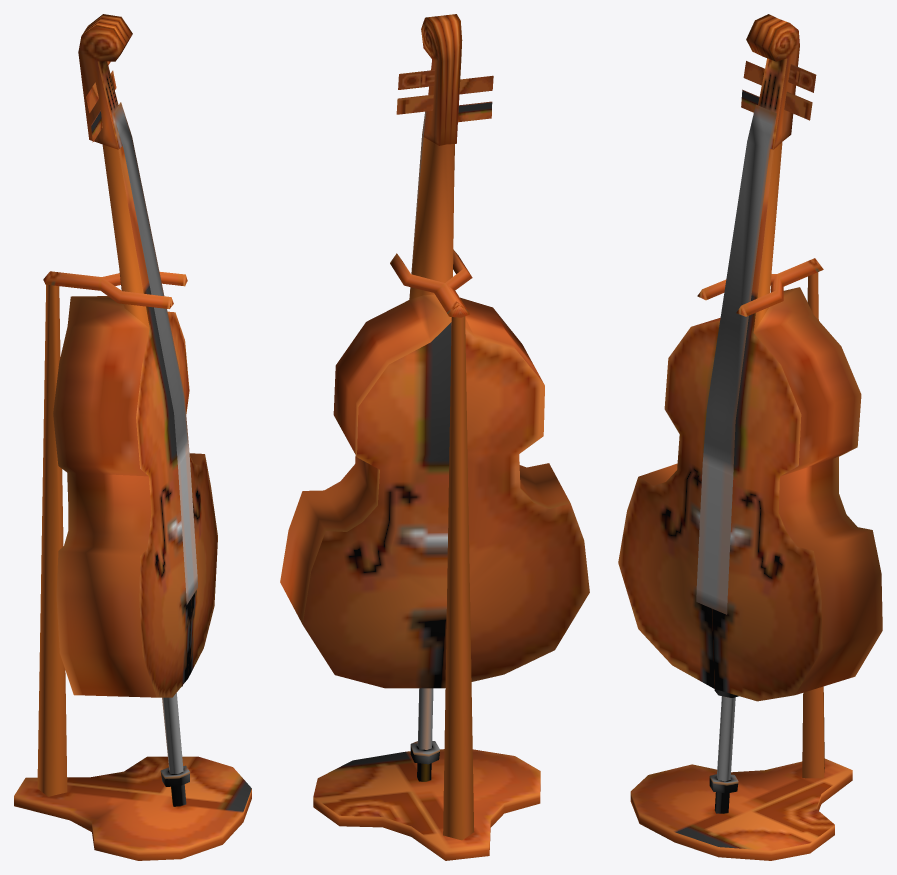
The model's file is int_vio_bass.dae.
3 renders of one model, left to right at view 1: azimuth 30°, elevation 25°; view 2: azimuth 150°, elevation 25°; view 3: azimuth 270°, elevation 25°, orthographic. The views are drawn at different scales.
Visible parts, largest first — view 1: int_vio_bass; view 2: int_vio_bass; view 3: int_vio_bass.
Boxes of the visible parts, bbox=[...] form: int_vio_bass: bbox=[14, 14, 251, 860]; int_vio_bass: bbox=[280, 14, 589, 860]; int_vio_bass: bbox=[618, 14, 882, 860].
Size of the model in its own units: 21.1 by 68.6 by 21.1.
Materials: 2 (2 with a texture image).
